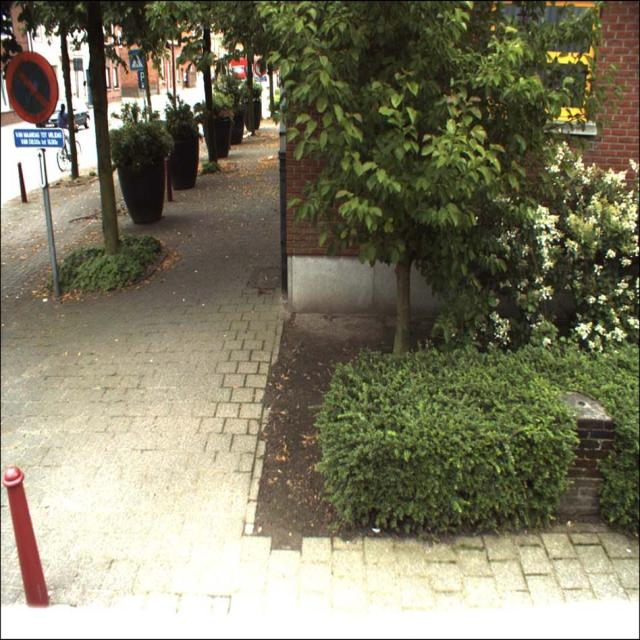parkyasak: (5, 51, 59, 122)
